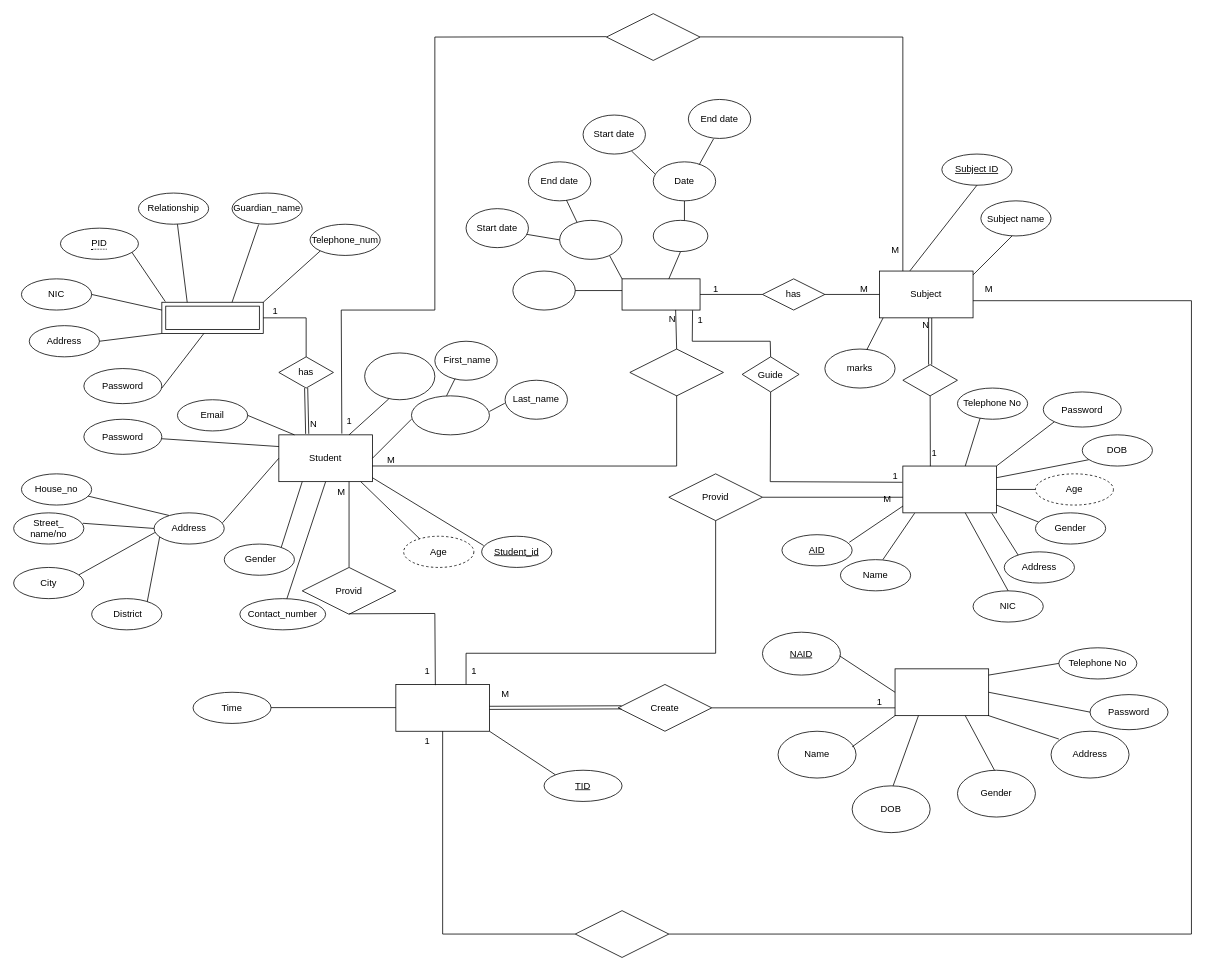
Some shapes in this 1206 by 971 pixel diagram are drawn without their labels. Here are the shapes that lost their labels. From the top down, the centre of each, then its label:
[653,36]: Show
[590,239]: Year
[680,236]: Term
[543,290]: CID
[660,294]: class
[212,317]: Parent
[399,376]: Date_of_birth
[676,372]: Enroll
[929,380]: Teach & give mark
[450,415]: Student_name
[949,489]: Academic staff
[442,707]: Time table
[941,692]: Non-Academic Staff
[621,933]: Provide
